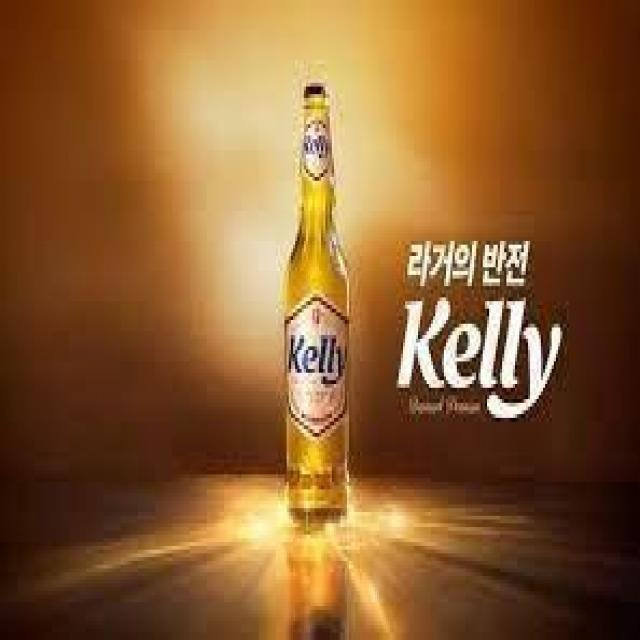beer-bottle: (282, 77, 352, 533)
